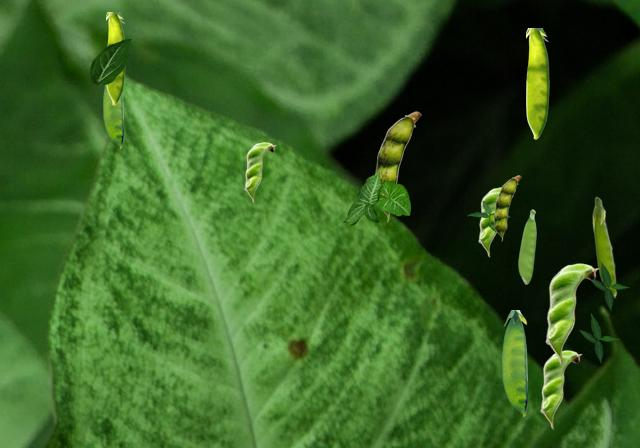pea: (545, 263, 598, 364), (374, 111, 420, 221), (540, 350, 581, 428), (502, 310, 526, 415), (592, 196, 616, 297), (526, 28, 548, 138), (478, 187, 513, 256), (244, 142, 275, 202), (494, 175, 520, 240), (106, 12, 124, 104), (518, 209, 535, 283), (103, 85, 122, 147)
